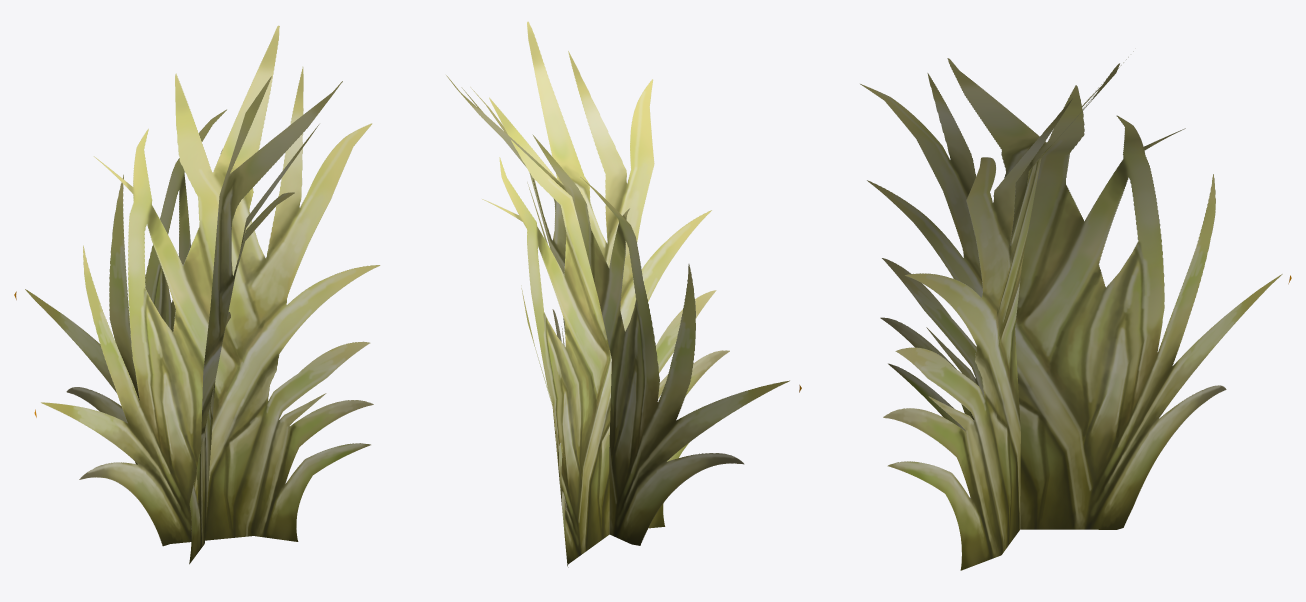
The model's file is Hay2.FBX.
The picture shows the model from 3 angles, left to right: view 1: azimuth 30°, elevation 25°; view 2: azimuth 150°, elevation 25°; view 3: azimuth 270°, elevation 25°; orthographic projection. The views are drawn at different scales.
Parts seen in each view (by area): view 1: Hay2; view 2: Hay2; view 3: Hay2.
Part boxes in pixels (<box>): Hay2: <box>14,25,380,564</box>; Hay2: <box>446,21,801,567</box>; Hay2: <box>860,51,1291,570</box>.
Bounding box in the file's own units: 81.91 × 100 × 77.07.
